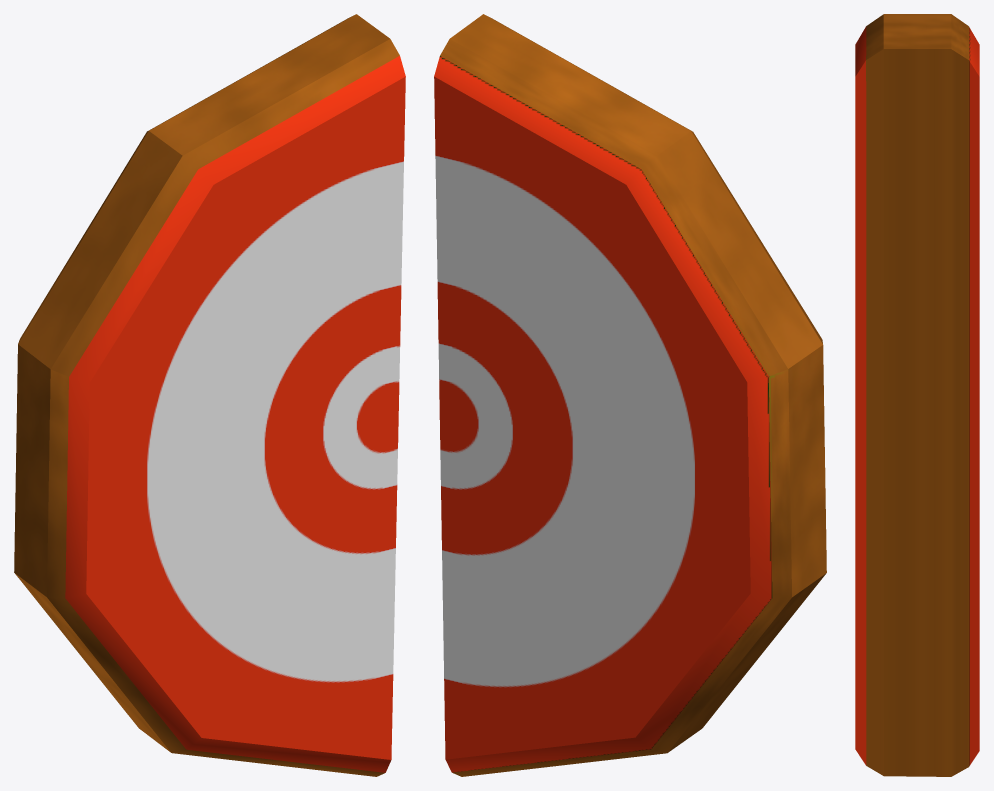
Rendered from brokenAim1.fbx.
The picture shows the model from 3 angles, left to right: view 1: azimuth 30°, elevation 25°; view 2: azimuth 150°, elevation 25°; view 3: azimuth 270°, elevation 25°; orthographic projection.
Visible parts, largest first — view 1: Object002; view 2: Object002; view 3: Object002.
Boxes of the visible parts, <box> form: Object002: <box>14,14,405,776</box>; Object002: <box>434,14,826,776</box>; Object002: <box>855,14,979,776</box>.
Bounding box in the file's own units: 13.87 × 28.26 × 4.35.
